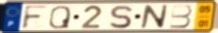2: (81, 4, 106, 30)
B: (168, 4, 194, 29)
F: (20, 4, 50, 30)
N: (139, 4, 170, 29)
Q: (47, 5, 72, 30)
S: (108, 4, 133, 30)
